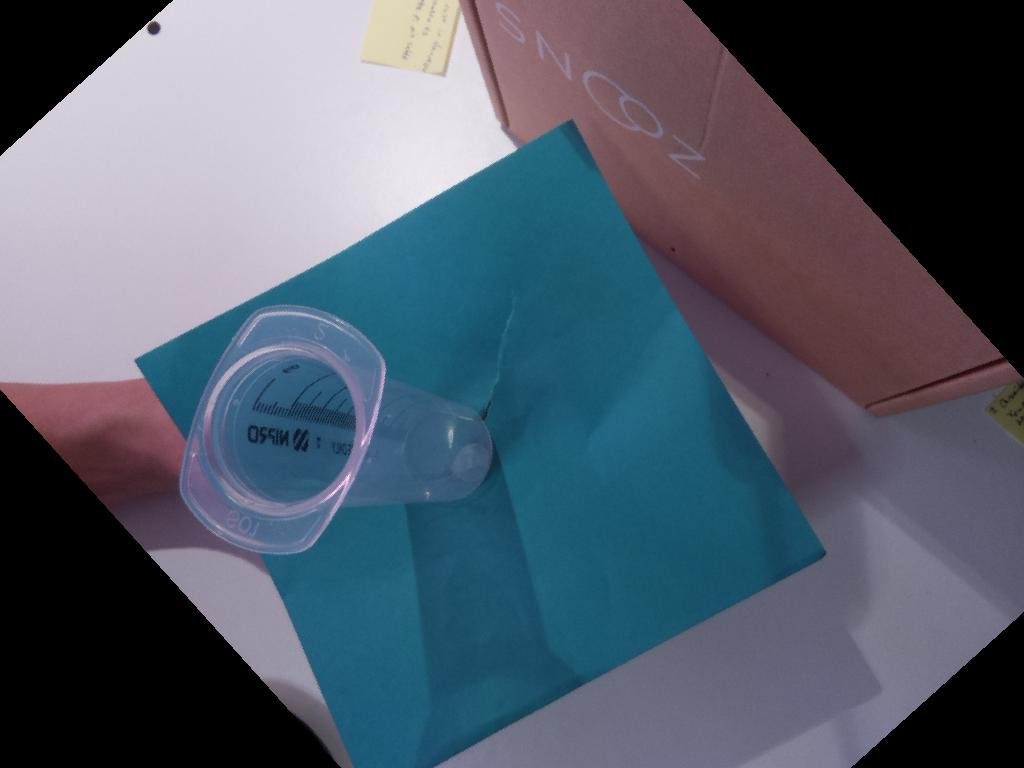clean: (180, 302, 388, 555)
